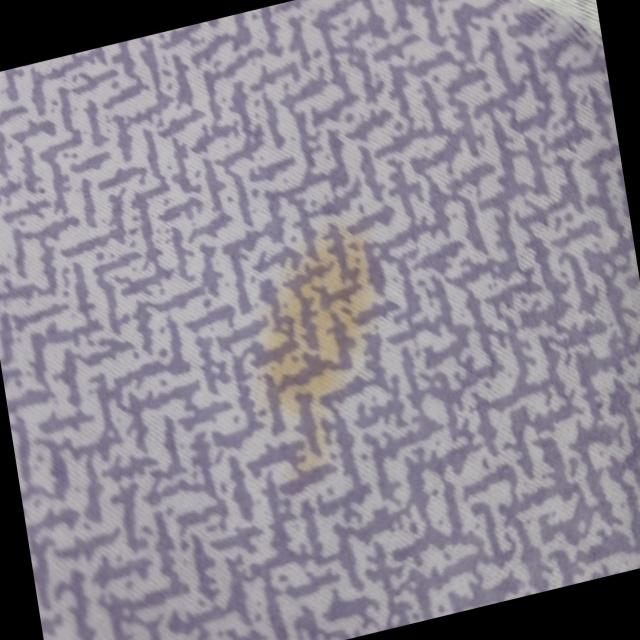stain: (228, 200, 421, 496)
